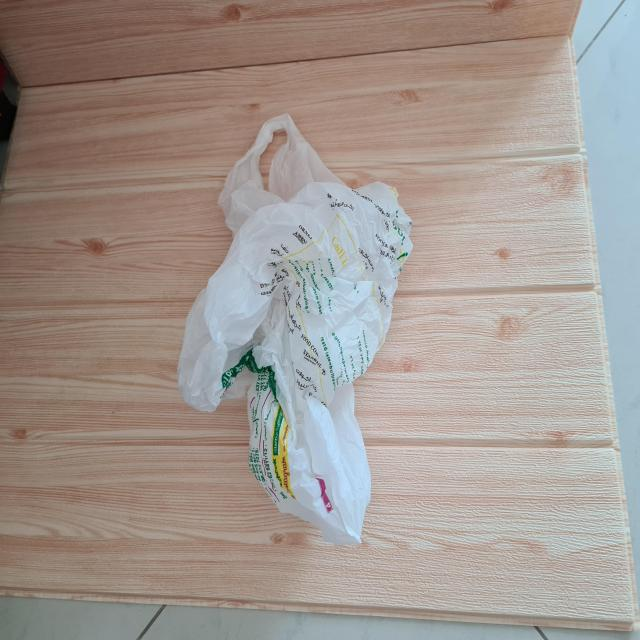plastic bag: (179, 113, 413, 542)
